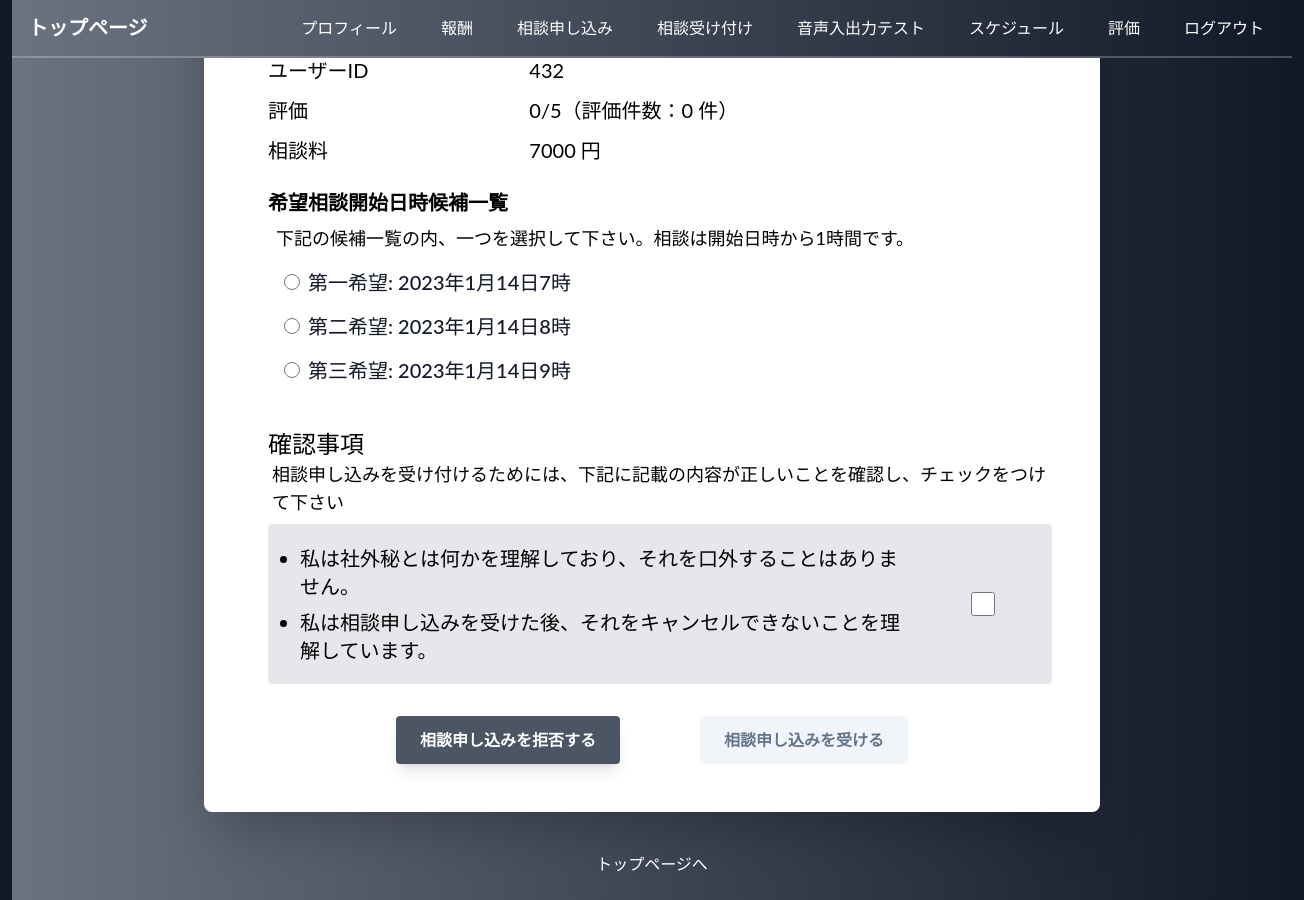
Scenario: ConsultationRequestDetailPage.vue › displays AlertMessage when error has happened on rejection
(page scrolled)
Click the button with test id "reject-btn": (508, 740) left=396, top=716, right=620, bottom=764
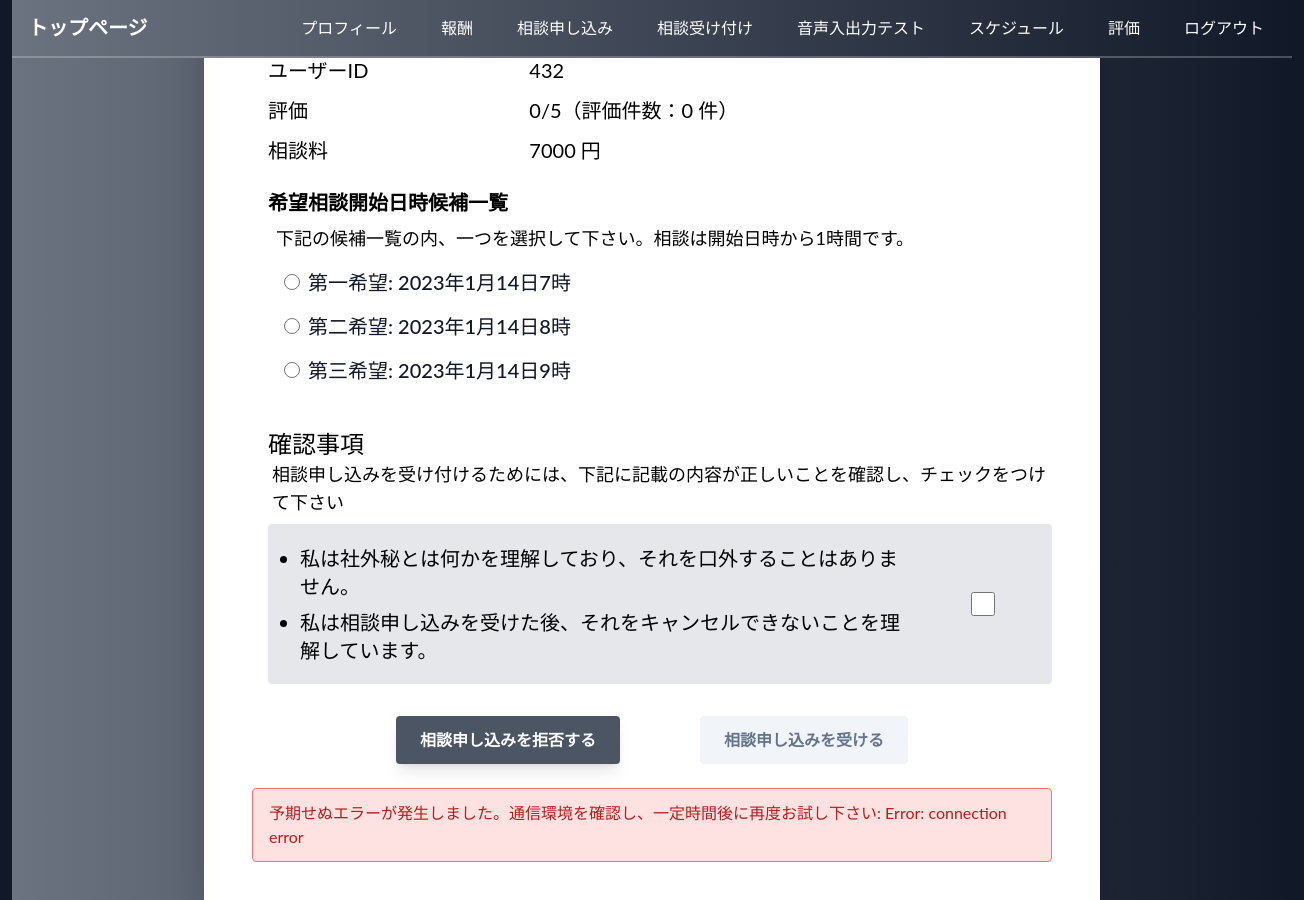
expect the element with test id "error-below-btn" is shown: met, box left=252, top=788, right=1052, bottom=862
expect the element with test id "error-below-btn" shows "connection error": met, box left=269, top=803, right=1007, bottom=846
